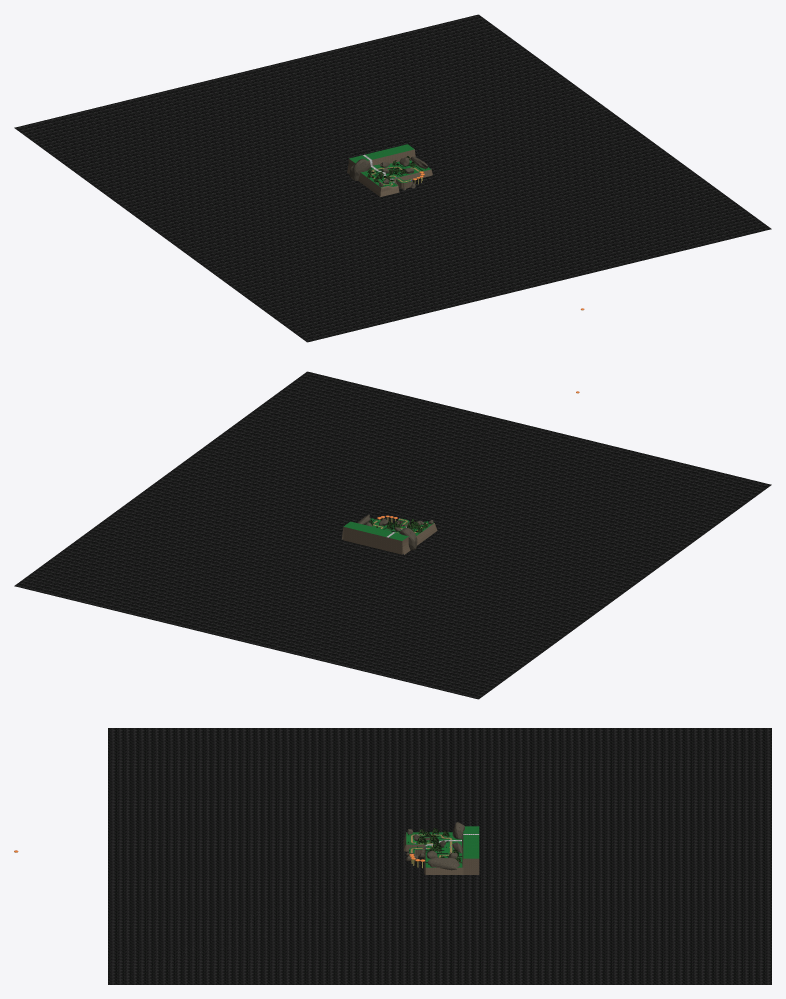
The picture shows the model from 3 angles, top to bottom: view 1: azimuth 30°, elevation 25°; view 2: azimuth 150°, elevation 25°; view 3: azimuth 270°, elevation 25°; orthographic projection. The views are drawn at different scales.
Parts seen in each view (by area): view 1: course-SKP--Material3, course-SKP--Wall.001, course-SKP--GrAss, course-SKP--RockHard; view 2: course-SKP--Material3, course-SKP--Wall.001, course-SKP--GrAss; view 3: course-SKP--Material3, course-SKP--GrAss, course-SKP--Wall.001, course-SKP--RockHard.
Part boxes in pixels (bbox=[...]): course-SKP--Material3: bbox=[14, 14, 771, 342]; course-SKP--Wall.001: bbox=[347, 149, 432, 196]; course-SKP--GrAss: bbox=[349, 144, 430, 187]; course-SKP--RockHard: bbox=[349, 156, 427, 190]; course-SKP--Material3: bbox=[14, 371, 771, 699]; course-SKP--Wall.001: bbox=[342, 520, 437, 554]; course-SKP--GrAss: bbox=[343, 518, 433, 540]; course-SKP--Material3: bbox=[108, 728, 771, 984]; course-SKP--GrAss: bbox=[406, 826, 479, 867]; course-SKP--Wall.001: bbox=[403, 832, 479, 874]; course-SKP--RockHard: bbox=[405, 822, 464, 870].
Size of the model in its own units: 834464 by 36464 by 1041176.
23 materials, 23 textured.
